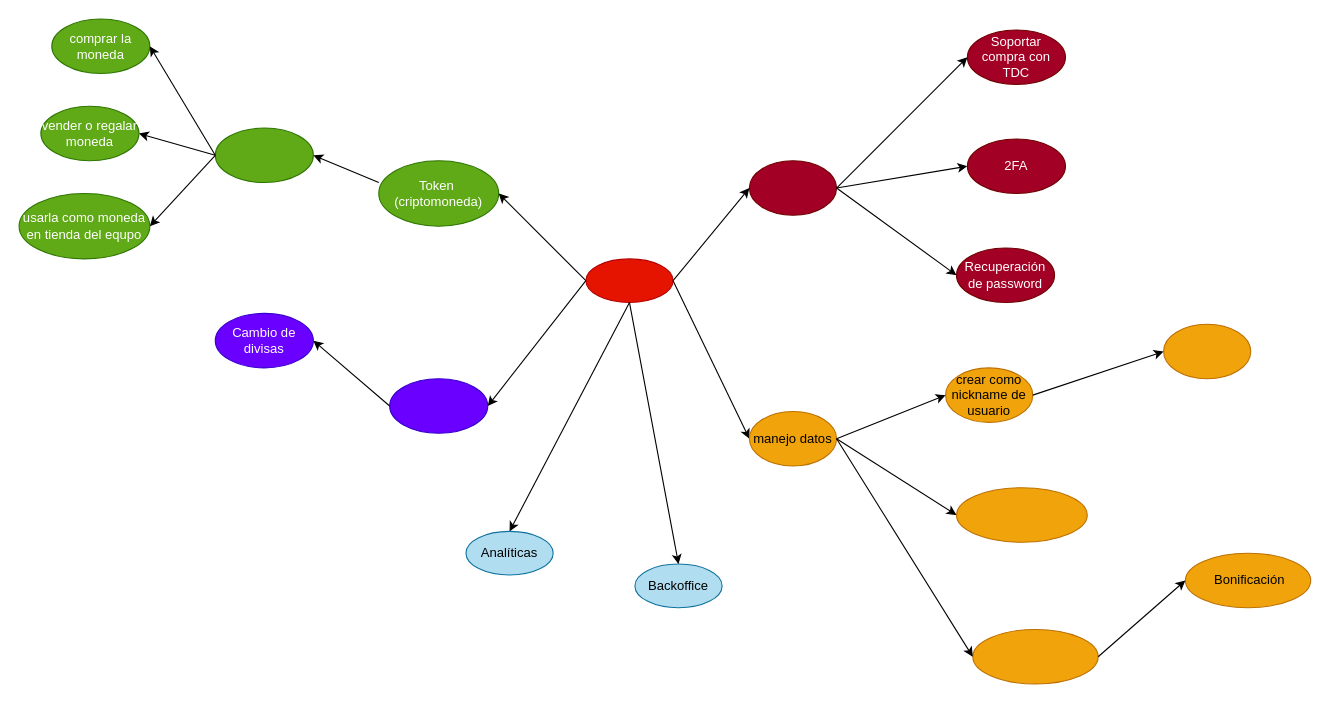
Some shapes in this 1330 by 703 pixel diagram are drawn without their labels. The centre of each missing label's shape, as x and y in pixels:
"autenticación" belongs at pixel 792 187.
"Avatar" belongs at pixel 1206 351.
"Manejo de Referidos" belongs at pixel 1035 656.
"Tokens MU" belongs at pixel 629 280.
"Transacciones" belongs at pixel 263 155.
"Validar el usuario KYC" belongs at pixel 1021 514.
"Wallet" belongs at pixel 438 405.
